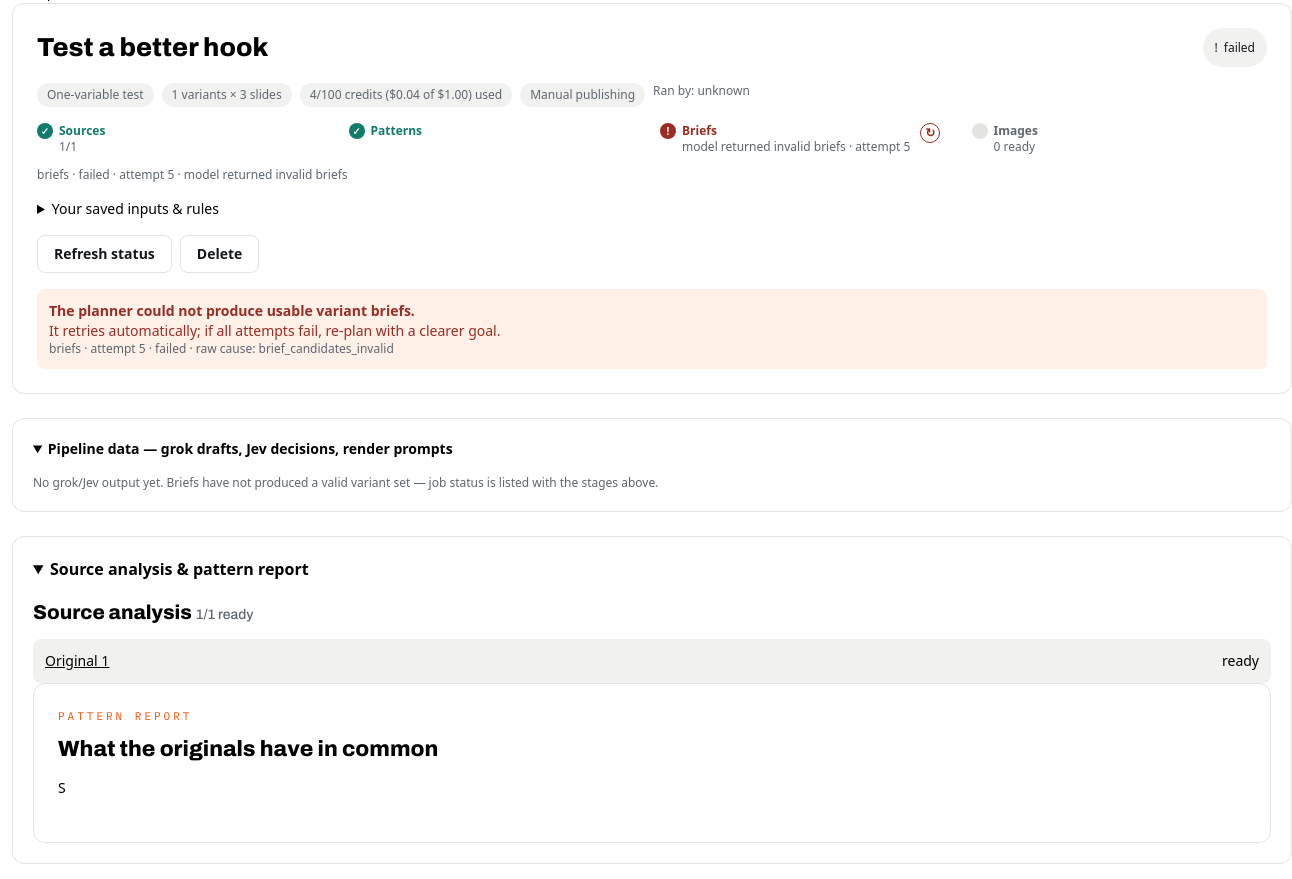
Test: retries a failed briefs job inline from the pipeline
Expected: the list item with aria-label "Briefs: failed" is shown, [660,123,956,155]
Click the button named "Retry Briefs" at (930, 133), box [920,123,940,143]
(page scrolled)
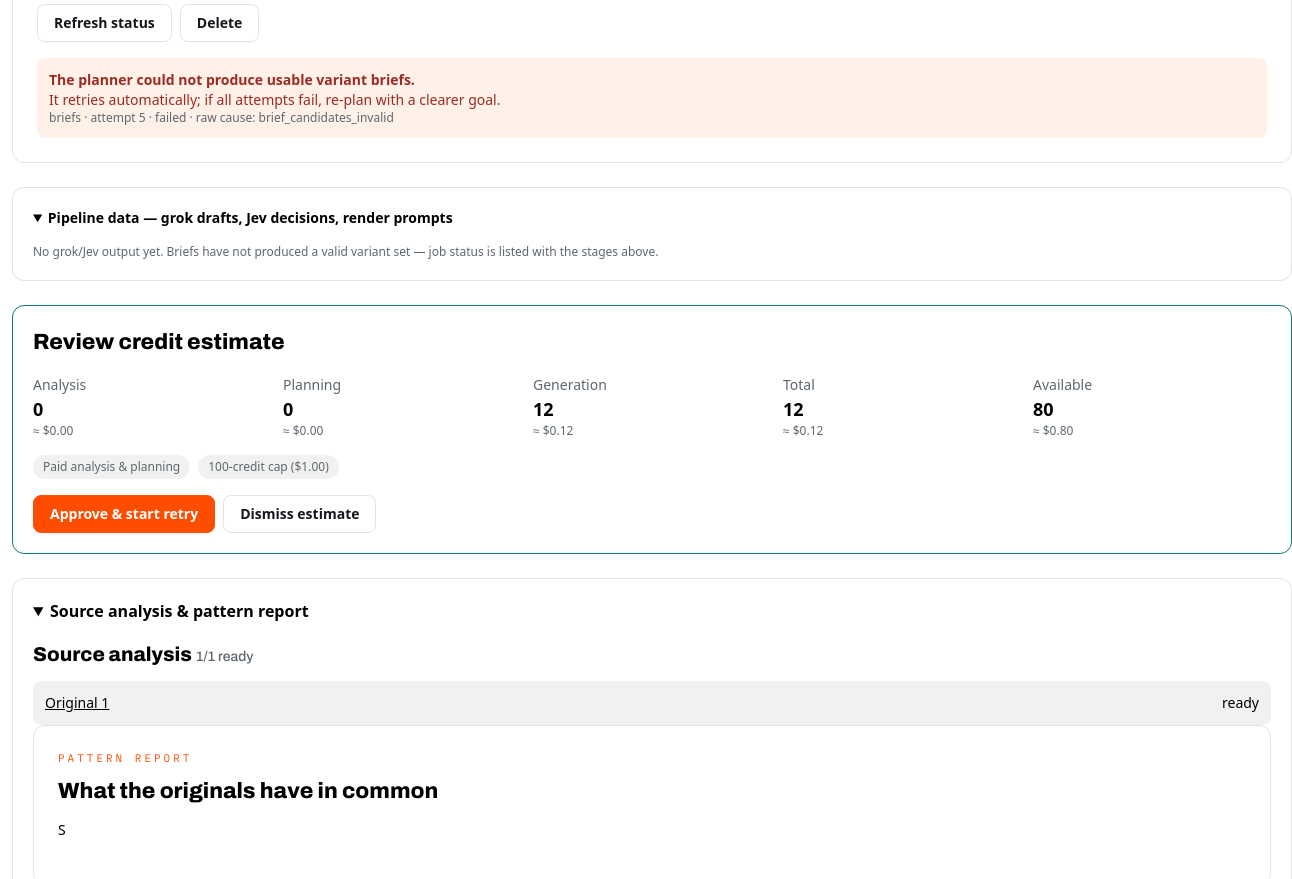
Now the button "Approve & start retry" is enabled, box [33,495,215,533]
